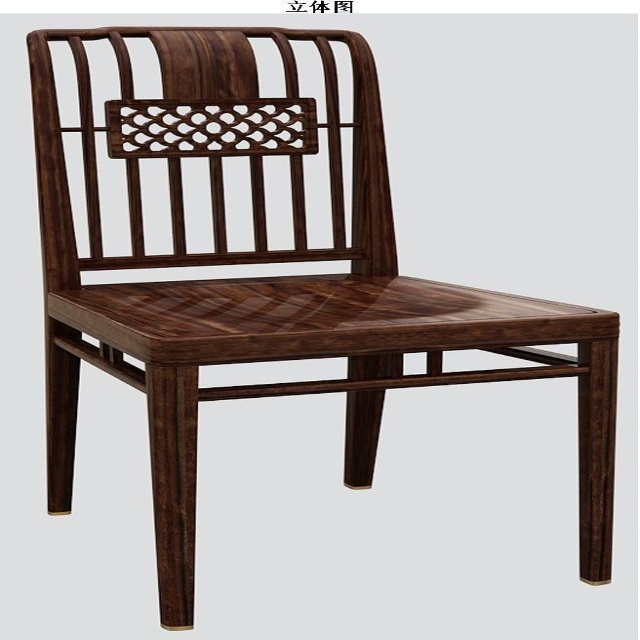obstacle: (27, 27, 618, 630)
